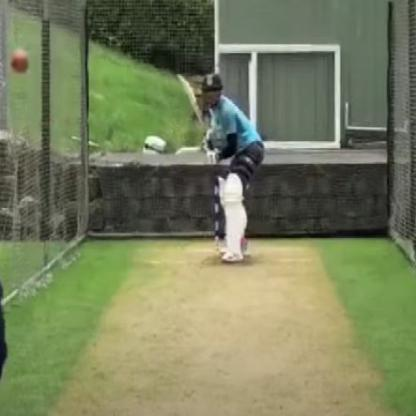ball: (9, 45, 34, 76)
